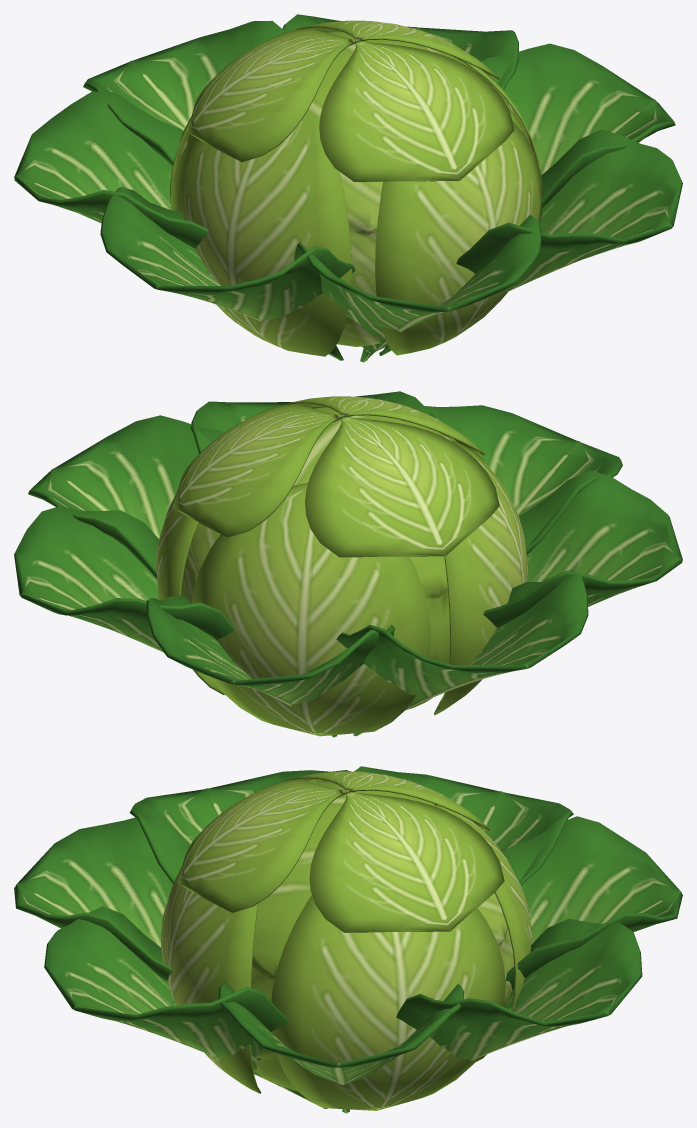
Rendered from NP_Cabbage_HeadForming.fbx.
3 views of the same model, one above another, from view 1: azimuth 30°, elevation 25°; view 2: azimuth 150°, elevation 25°; view 3: azimuth 270°, elevation 25° (orthographic).
Visible parts, largest first — view 1: NP_Cabbage_HeadForming; view 2: NP_Cabbage_HeadForming; view 3: NP_Cabbage_HeadForming.
Boxes of the visible parts, x1=… form: NP_Cabbage_HeadForming: x1=14, y1=14, x2=682, y2=362; NP_Cabbage_HeadForming: x1=14, y1=391, x2=682, y2=737; NP_Cabbage_HeadForming: x1=14, y1=766, x2=682, y2=1113.
Size of the model in its own units: 64.09 by 32.92 by 64.24.
